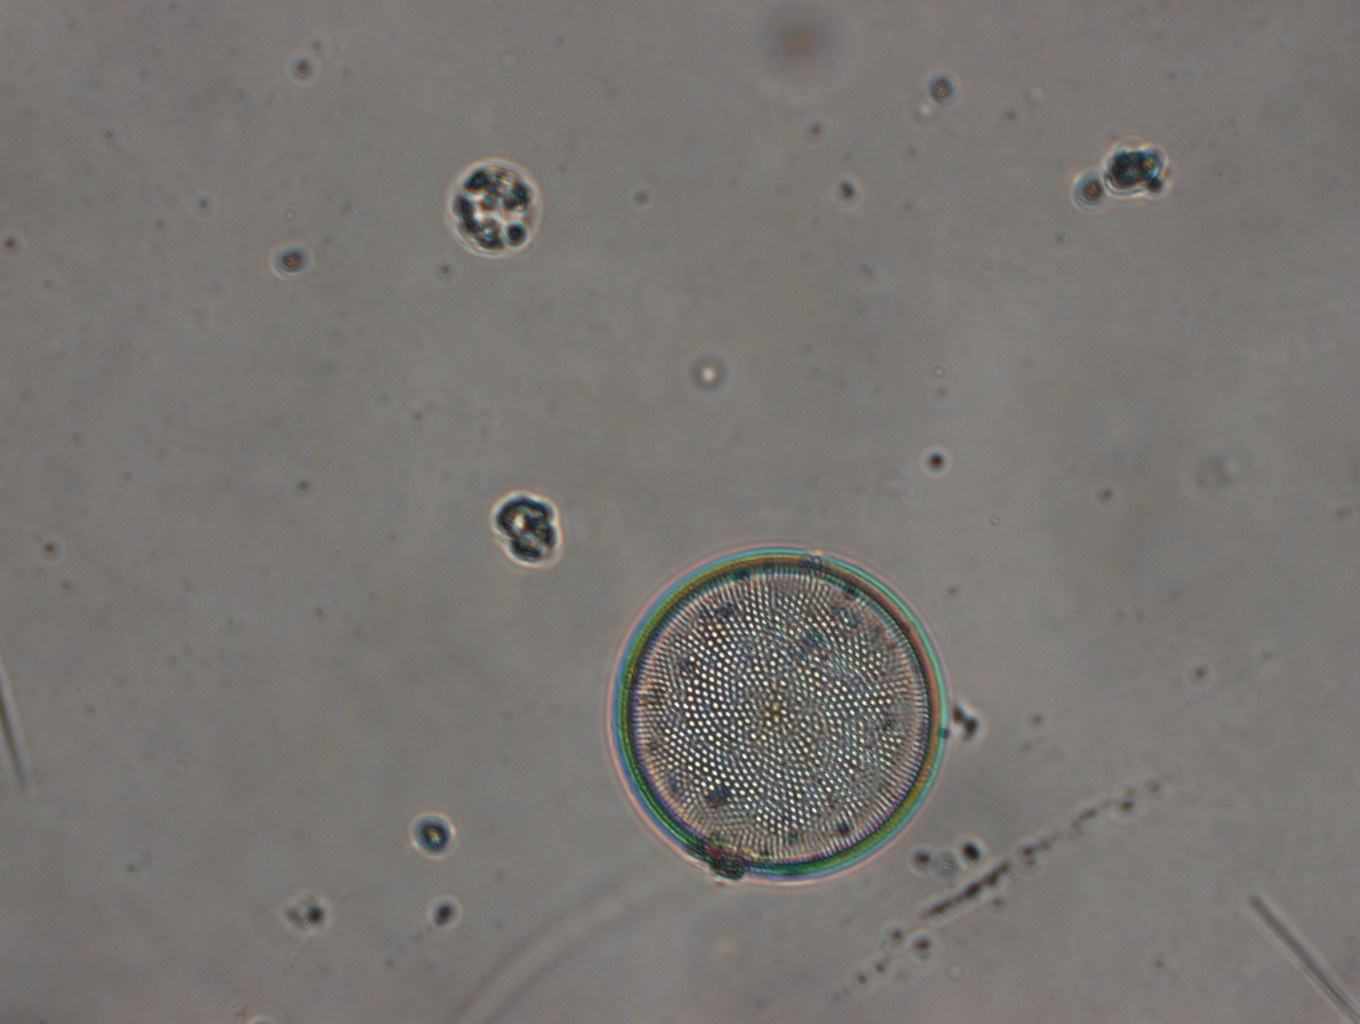coscinodiscus: (611, 547, 944, 882)
